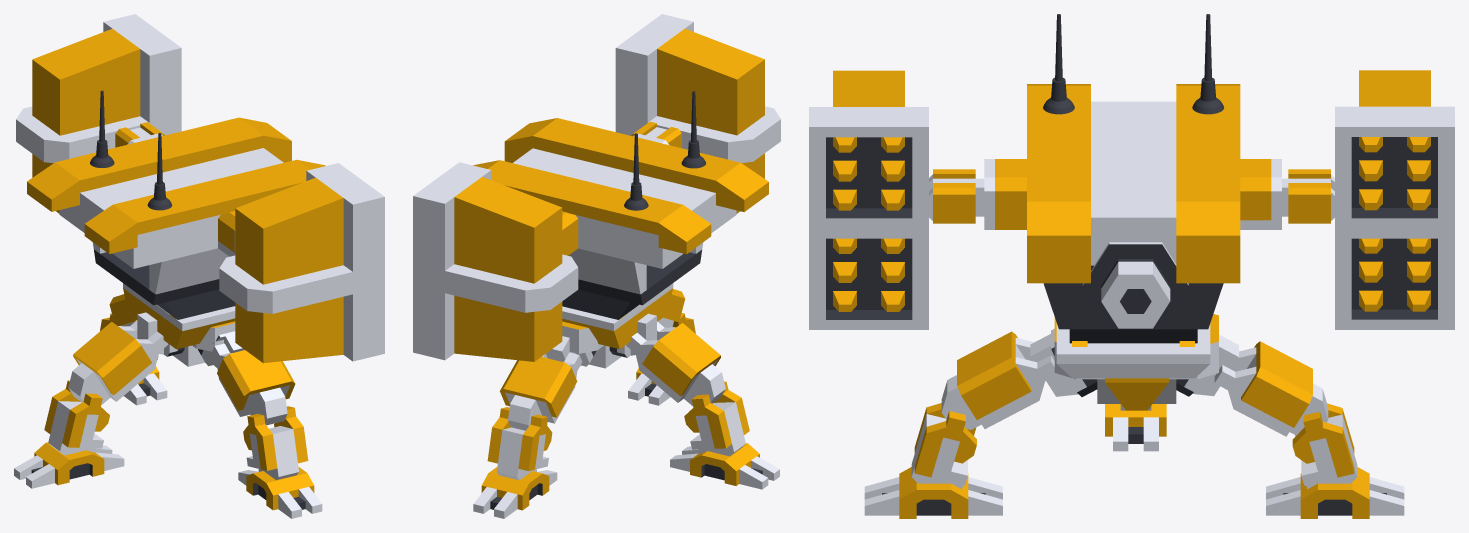
File: Artillery_Mech.fbx
3 renders of one model, left to right at view 1: azimuth 30°, elevation 25°; view 2: azimuth 150°, elevation 25°; view 3: azimuth 270°, elevation 25°, orthographic. The views are drawn at different scales.
Visible parts, largest first — view 1: weapon_turretLarge (×4), chest_shoulders, leg_shield (×3), leg_double (×2), foot_claw (×3), body_platform, detail_antenna (×2), pelvis_belt (×2), pelvis_shield, shoulder_default, leg_cover; view 2: weapon_turretLarge (×4), chest_shoulders, leg_shield (×3), leg_double (×2), foot_claw (×3), body_platform, detail_antenna (×2), pelvis_shield, pelvis_belt (×2), shoulder_default, leg_cover; view 3: weapon_turretLarge (×4), chest_shoulders, leg_shield (×2), foot_claw (×3), leg_double (×2), socket_large, shoulder_default (×2), body_platform, leg_cover (×2), pelvis_shield, pelvis_belt (×2), detail_antenna (×2).
Boxes of the visible parts, x1,y1,x2,y2 form: weapon_turretLarge (×4): (16,14,384,363); chest_shoulders: (27,117,325,319); leg_shield (×3): (68,294,295,425); leg_double (×2): (44,380,308,480); foot_claw (×3): (14,366,322,518); body_platform: (123,283,235,349); detail_antenna (×2): (90,90,172,210); pelvis_belt (×2): (137,312,244,368); pelvis_shield: (173,321,235,366); shoulder_default: (218,211,235,256); leg_cover: (115,122,165,147); weapon_turretLarge (×4): (413,14,780,361); chest_shoulders: (473,118,768,319); leg_shield (×3): (500,289,725,430); leg_double (×2): (487,381,749,480); foot_claw (×3): (473,368,779,518); body_platform: (562,283,673,348); detail_antenna (×2): (624,91,705,210); pelvis_shield: (562,321,621,368); pelvis_belt (×2): (546,313,656,366); shoulder_default: (562,211,578,255); leg_cover: (631,121,681,148); weapon_turretLarge (×4): (809,70,1454,329); chest_shoulders: (1027,84,1240,343); leg_shield (×2): (941,331,1328,436); foot_claw (×3): (864,404,1404,518); leg_double (×2): (911,403,1357,489); socket_large: (1082,242,1188,328); shoulder_default (×2): (984,159,1281,229); body_platform: (1056,323,1210,378); leg_cover (×2): (929,169,1334,223); pelvis_shield: (1054,314,1218,410); pelvis_belt (×2): (1030,328,1238,396); detail_antenna (×2): (1043,14,1224,114).
Bounding box in the file's own units: 39.87 × 46.1 × 60.55.
